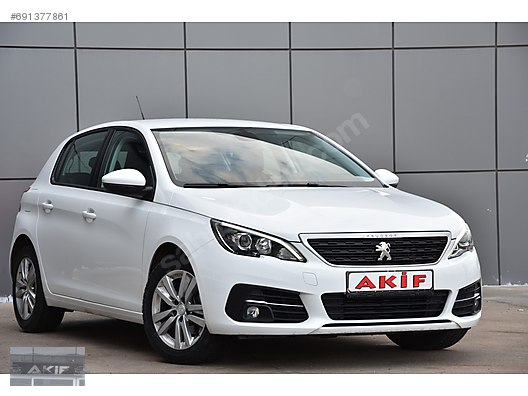peugeot: (5, 113, 495, 353)
